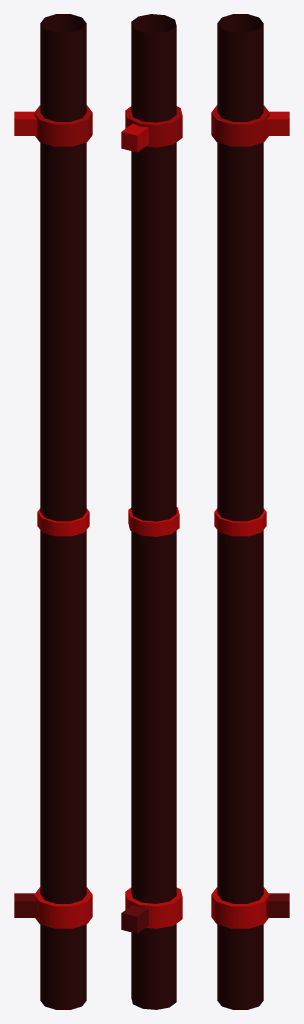
File: pipe_v.glb
The picture shows the model from 3 angles, left to right: view 1: azimuth 90°, elevation 25°; view 2: azimuth 150°, elevation 25°; view 3: azimuth 270°, elevation 25°; orthographic projection.
Visible parts, largest first — view 1: pipe_v; view 2: pipe_v; view 3: pipe_v.
Part boxes in pixels (left/top/right/bottom): pipe_v: left=14, top=14, right=92, bottom=1009; pipe_v: left=121, top=14, right=182, bottom=1009; pipe_v: left=211, top=14, right=289, bottom=1009.
Size of the model in its own units: 0.1807 by 3.5 by 0.255.
